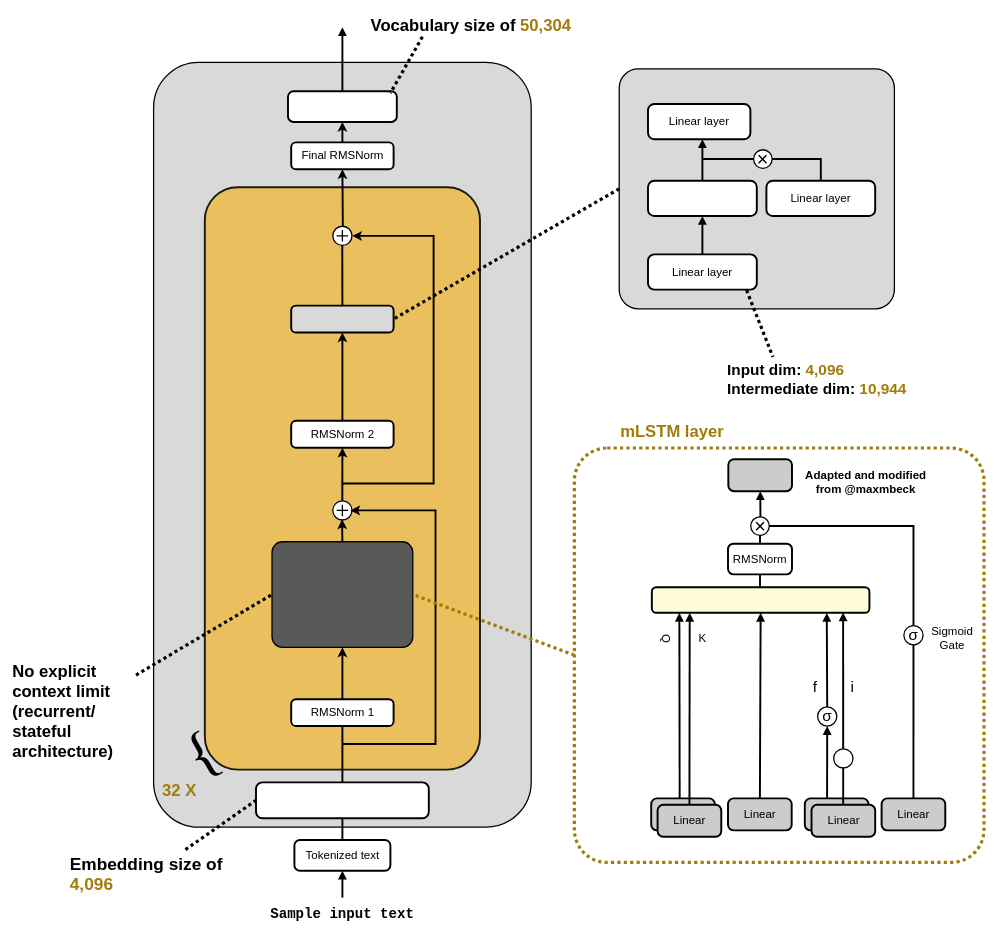
Image size: 996x940. Some labels were removed from this diagram. The shapes that lost their labels are listed below. From the top down, each one's box as (x1, y1, x2, y2) in pixels, then its label:
(287, 90, 397, 123): Linear output layer
(647, 180, 757, 217): SiLU activation
(290, 304, 394, 333): Feed forward
(727, 458, 793, 492): Liner
(271, 541, 413, 648): xLSTM with matrics memory
(651, 586, 870, 613): mLSTM
(833, 748, 853, 768): exp
(255, 781, 429, 819): Token embedding layer
